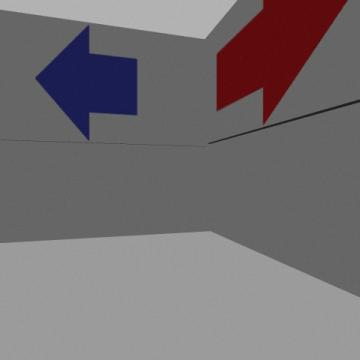blue_left: (34, 26, 137, 140)
red_right: (217, 0, 347, 123)
